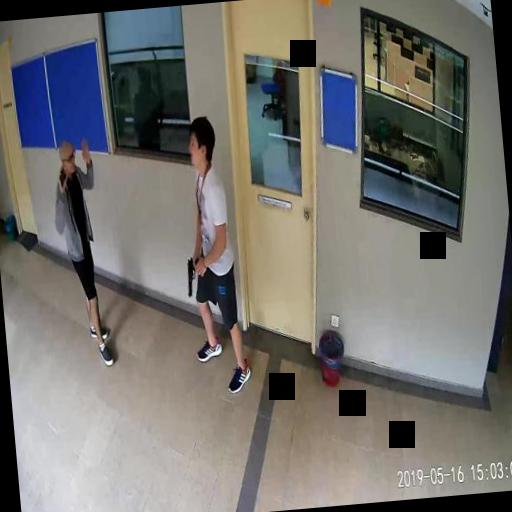Handgun: (184, 254, 202, 296)
